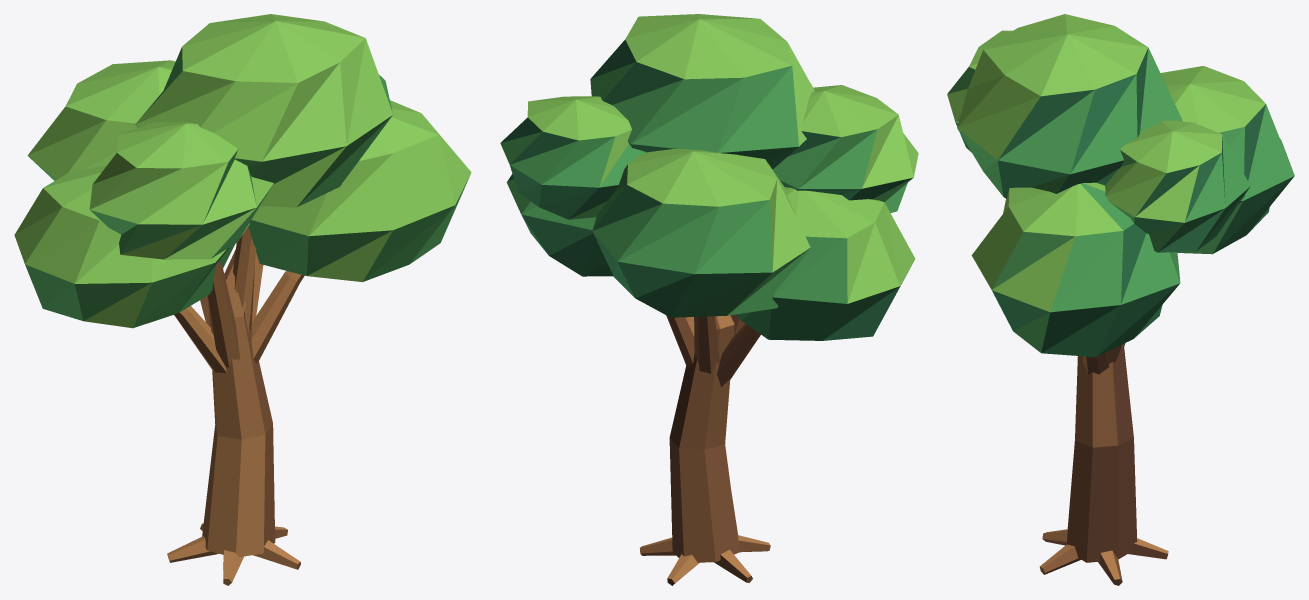
Rendered from ArvoreCampestre_Prototype.fbx.
3 views of the same model, side by side, from view 1: azimuth 30°, elevation 25°; view 2: azimuth 150°, elevation 25°; view 3: azimuth 270°, elevation 25° (orthographic). The views are drawn at different scales.
Parts seen in each view (by area): view 1: ArvoreCampestre_Folha_6, ArvoreCampestre_Folha_5, ArvoreCampestre_Solido_3, ArvoreCampestre_Solido_2; view 2: ArvoreCampestre_Folha_5, ArvoreCampestre_Folha_6, ArvoreCampestre_Folha_4, ArvoreCampestre_Solido_2, ArvoreCampestre_Solido_1, ArvoreCampestre_Solido_3; view 3: ArvoreCampestre_Folha_6, ArvoreCampestre_Folha_5, ArvoreCampestre_Folha_4, ArvoreCampestre_Solido_1, ArvoreCampestre_Solido_2, ArvoreCampestre_Solido_3.
Part boxes in pixels (box(x1,y1,x2,y2)): ArvoreCampestre_Folha_6: box(14, 14, 471, 328); ArvoreCampestre_Folha_5: box(25, 47, 469, 327); ArvoreCampestre_Solido_3: box(167, 226, 301, 585); ArvoreCampestre_Solido_2: box(167, 235, 304, 570); ArvoreCampestre_Folha_5: box(500, 62, 912, 324); ArvoreCampestre_Folha_6: box(527, 14, 918, 303); ArvoreCampestre_Folha_4: box(501, 39, 912, 340); ArvoreCampestre_Solido_2: box(640, 316, 770, 583); ArvoreCampestre_Solido_1: box(640, 314, 767, 585); ArvoreCampestre_Solido_3: box(640, 315, 770, 582); ArvoreCampestre_Folha_6: box(947, 14, 1265, 311); ArvoreCampestre_Folha_5: box(947, 47, 1294, 352); ArvoreCampestre_Folha_4: box(955, 48, 1294, 357); ArvoreCampestre_Solido_1: box(1043, 343, 1167, 585); ArvoreCampestre_Solido_2: box(1040, 351, 1122, 583); ArvoreCampestre_Solido_3: box(1040, 462, 1168, 579).
Size of the model in its own units: 1358 by 1691 by 995.
